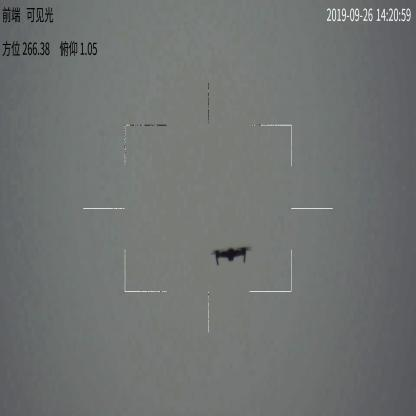uav: (208, 243, 253, 267)
